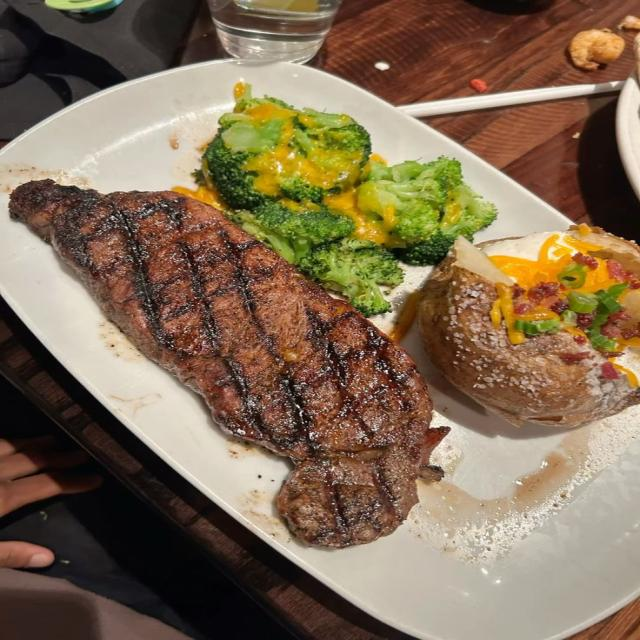beef steak: (10, 180, 447, 547)
broccoli: (203, 85, 371, 209), (358, 157, 496, 264), (395, 184, 497, 265), (300, 238, 404, 316), (229, 201, 354, 264), (394, 230, 454, 265), (280, 178, 326, 204)
